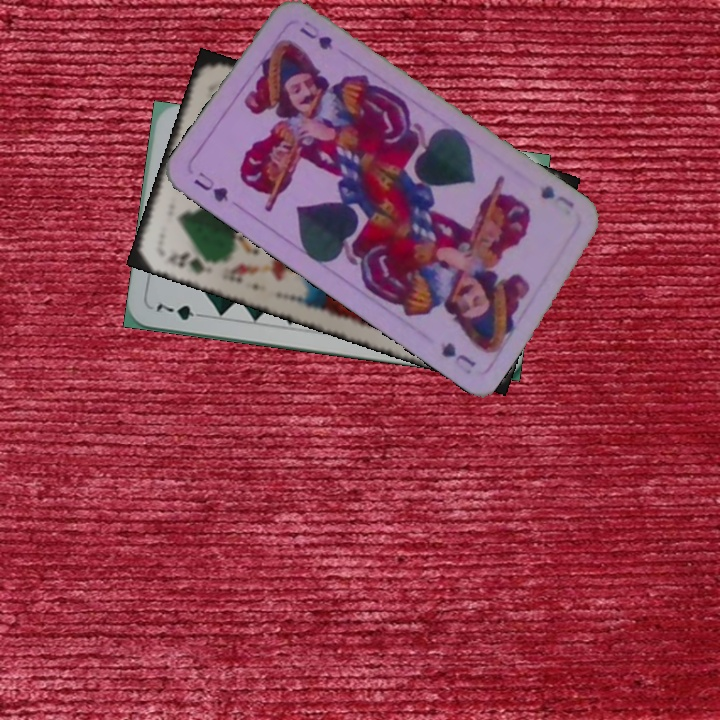G7: (152, 299, 209, 323)
GK: (164, 248, 216, 277)
GU: (189, 168, 231, 205), (534, 180, 577, 210)
